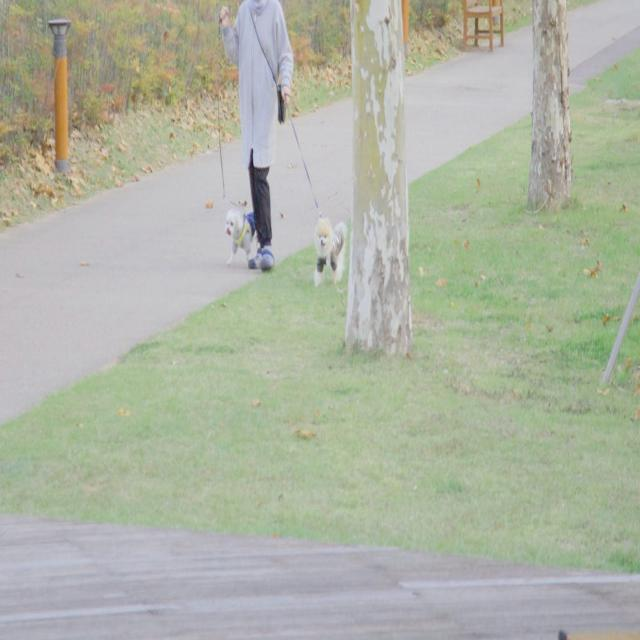Leashed_Dog: (264, 87, 348, 286), (217, 28, 260, 266)
